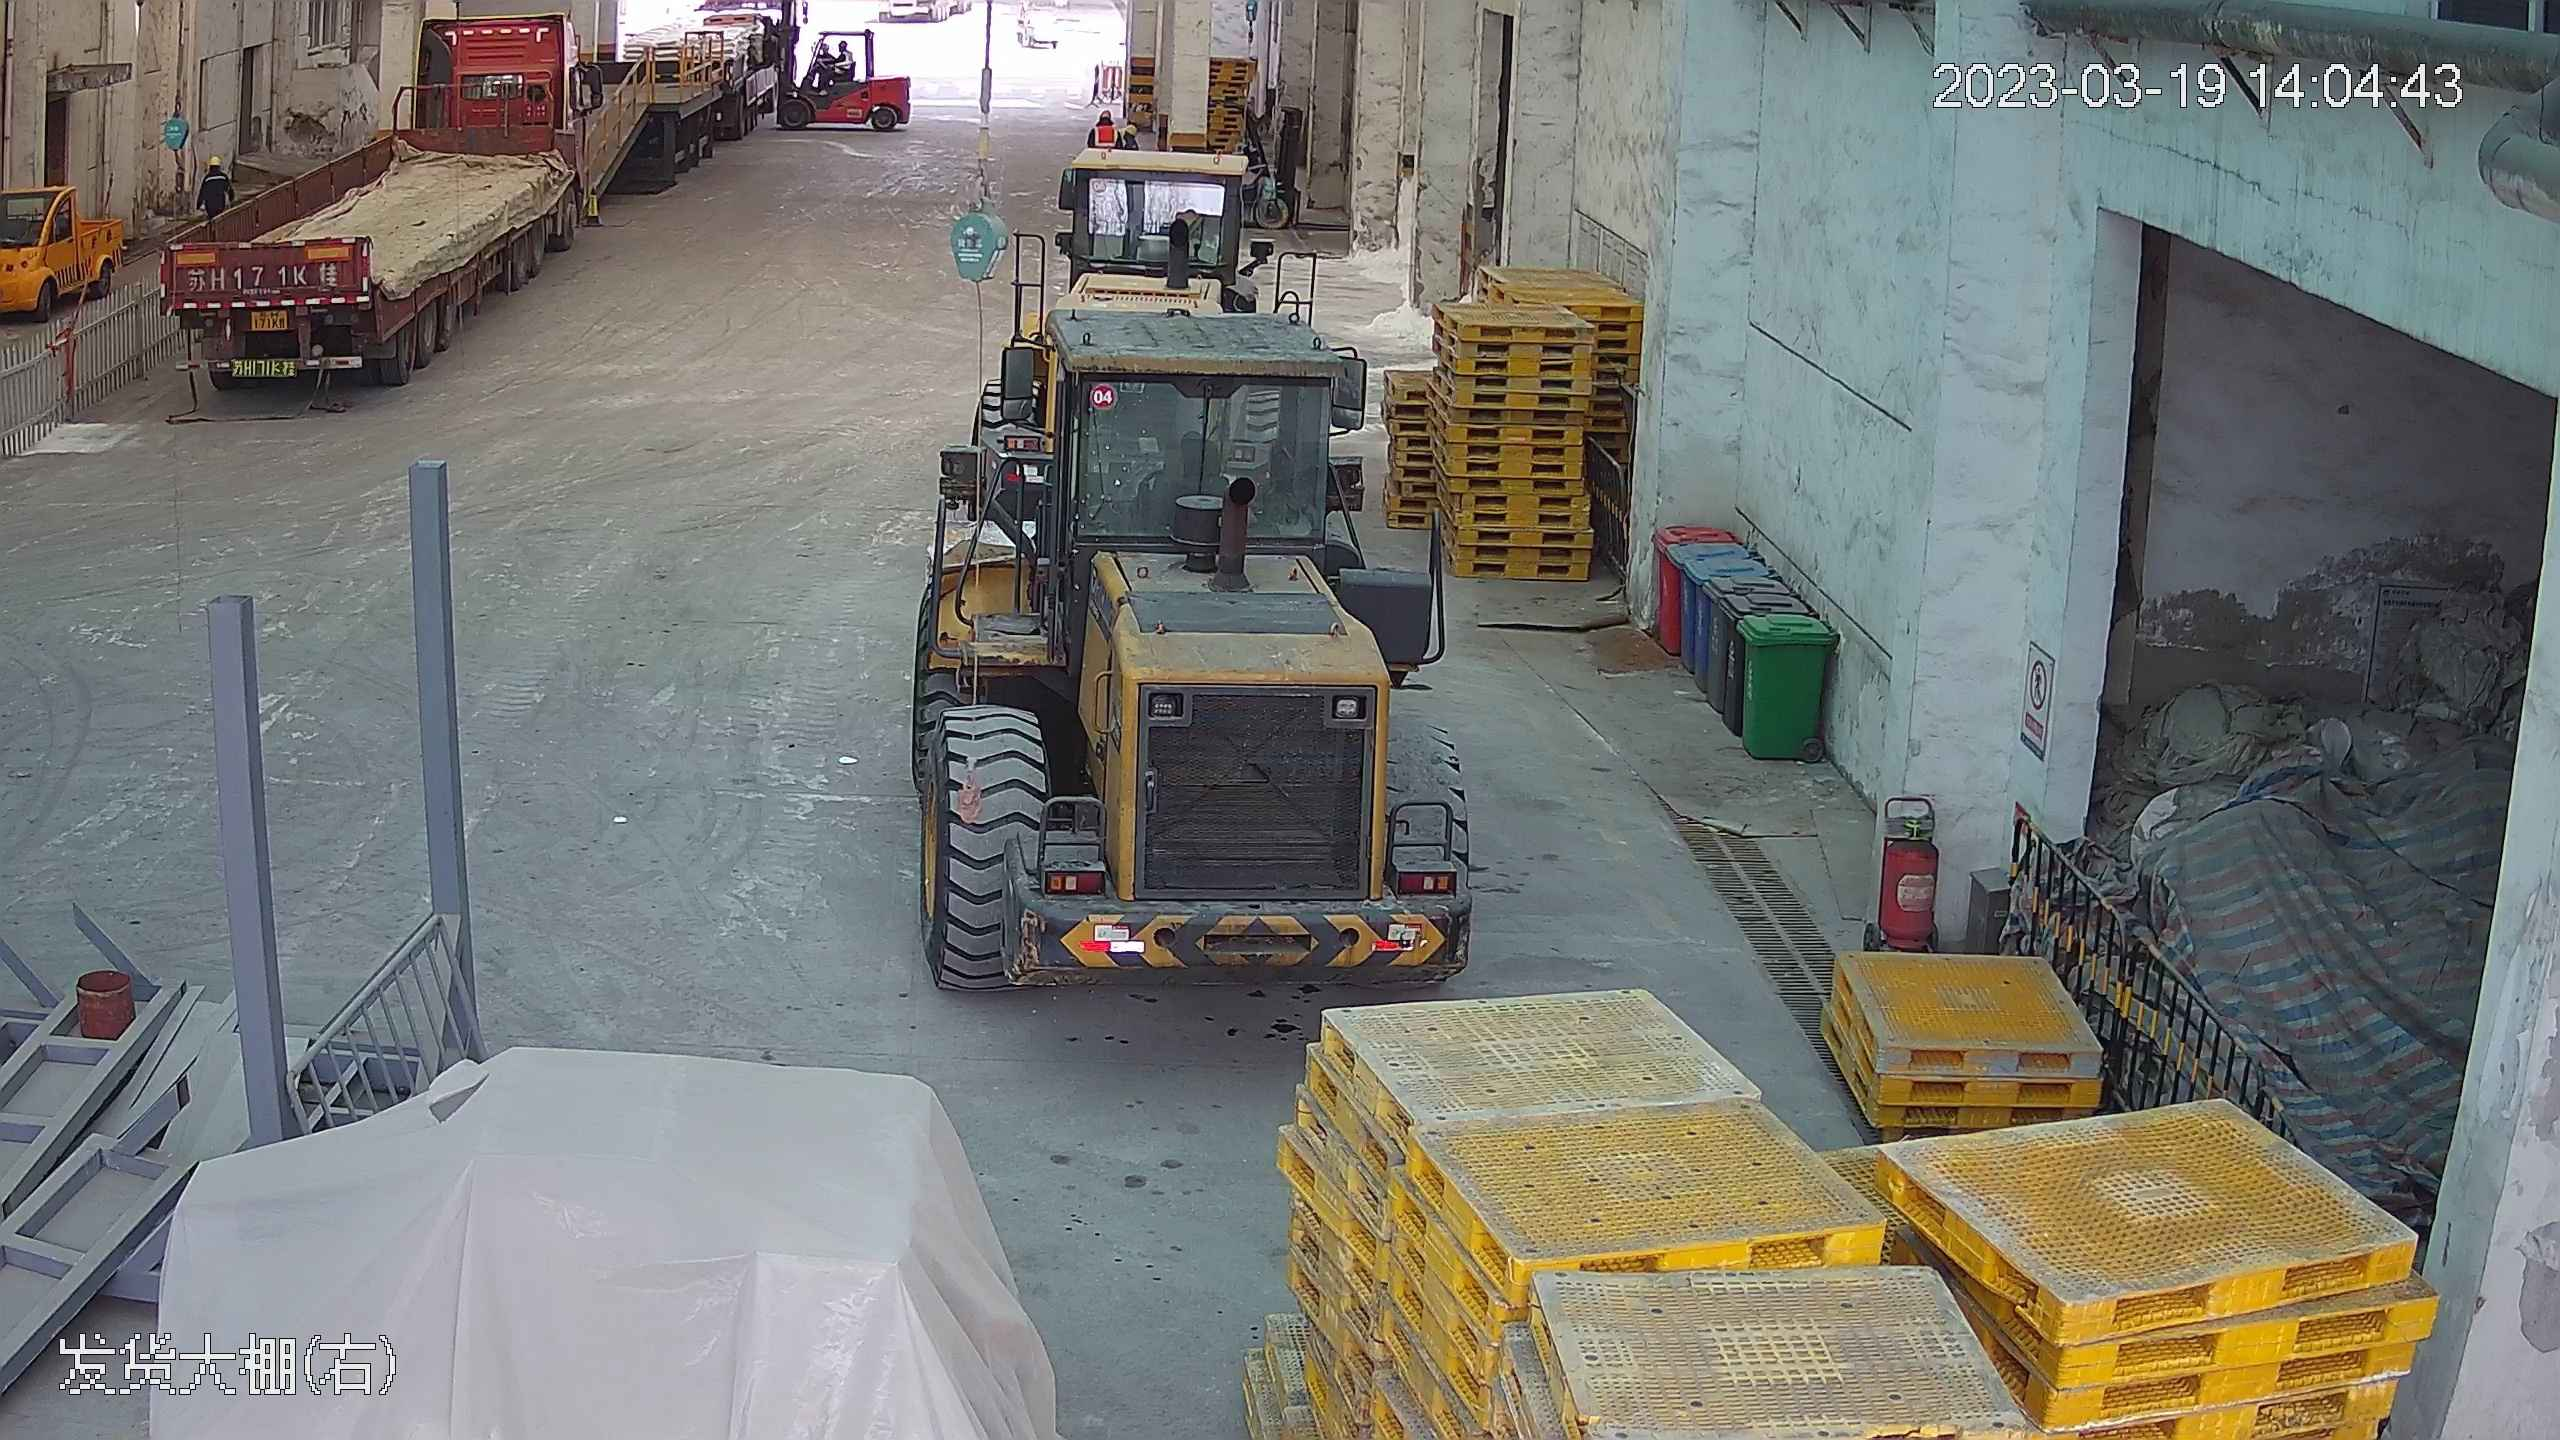head: (198, 155, 230, 188), (1090, 107, 1120, 140)
helmet: (1124, 123, 1137, 137), (206, 155, 222, 166), (1100, 108, 1111, 118)
people: (193, 146, 234, 229)
truck: (173, 9, 602, 392)
